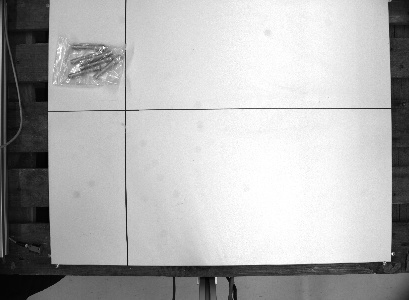t2: (48, 33, 131, 91)
